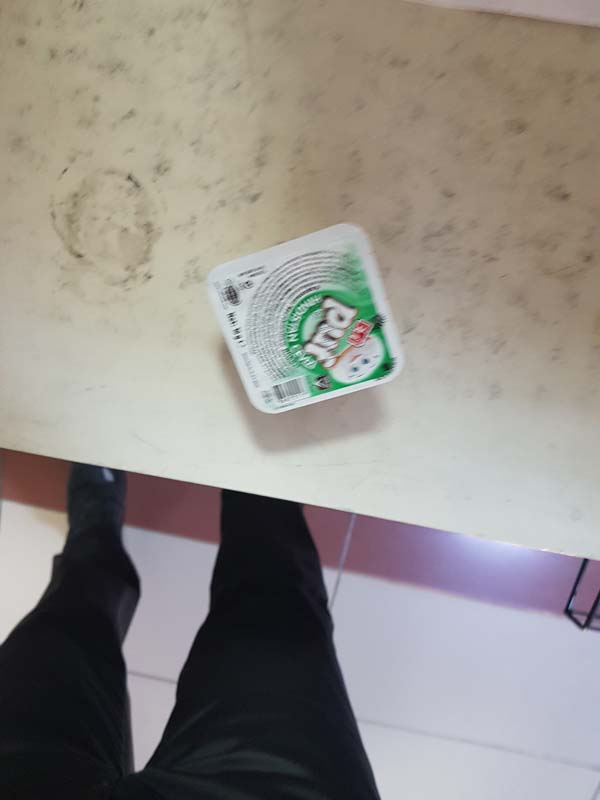etipuf: (204, 222, 407, 411)
